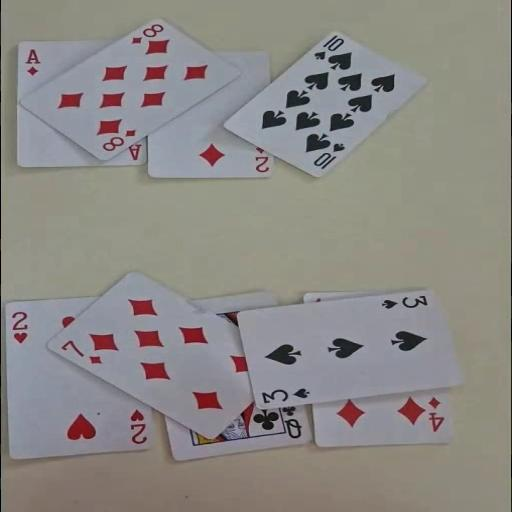10: (310, 140, 347, 170), (310, 33, 346, 61)
2: (126, 407, 148, 445), (8, 310, 28, 344), (252, 149, 272, 173)
3: (259, 386, 310, 404), (378, 293, 429, 310)
4: (426, 395, 446, 433)
7: (57, 338, 104, 365)
8: (99, 127, 138, 152), (127, 22, 165, 45)
A: (22, 46, 41, 76), (126, 142, 142, 161)
Q: (280, 410, 304, 440)
